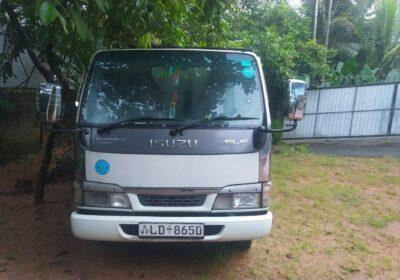truck: (36, 47, 307, 248)
